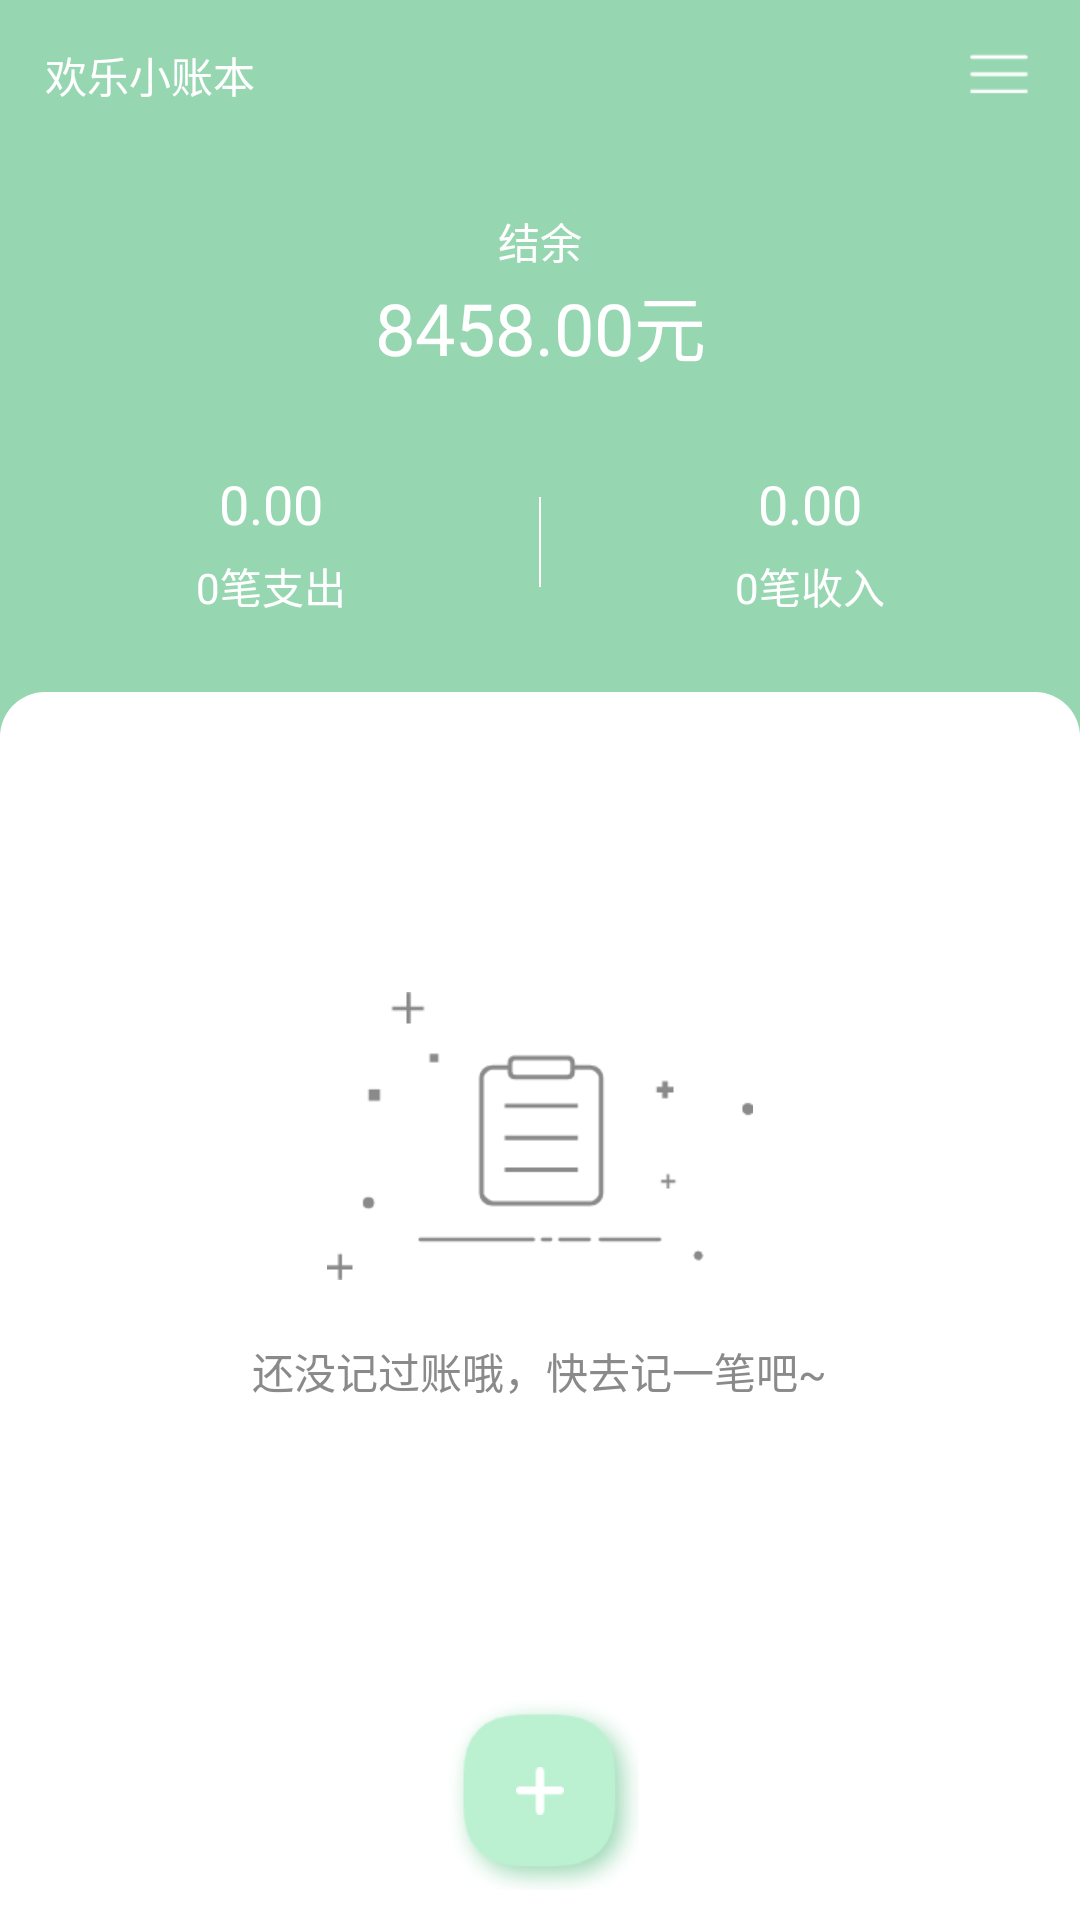

Named icons in this screenshot (1080×1920) and their centers, (x,y):
add: (546,1797)
more: (999,74)
